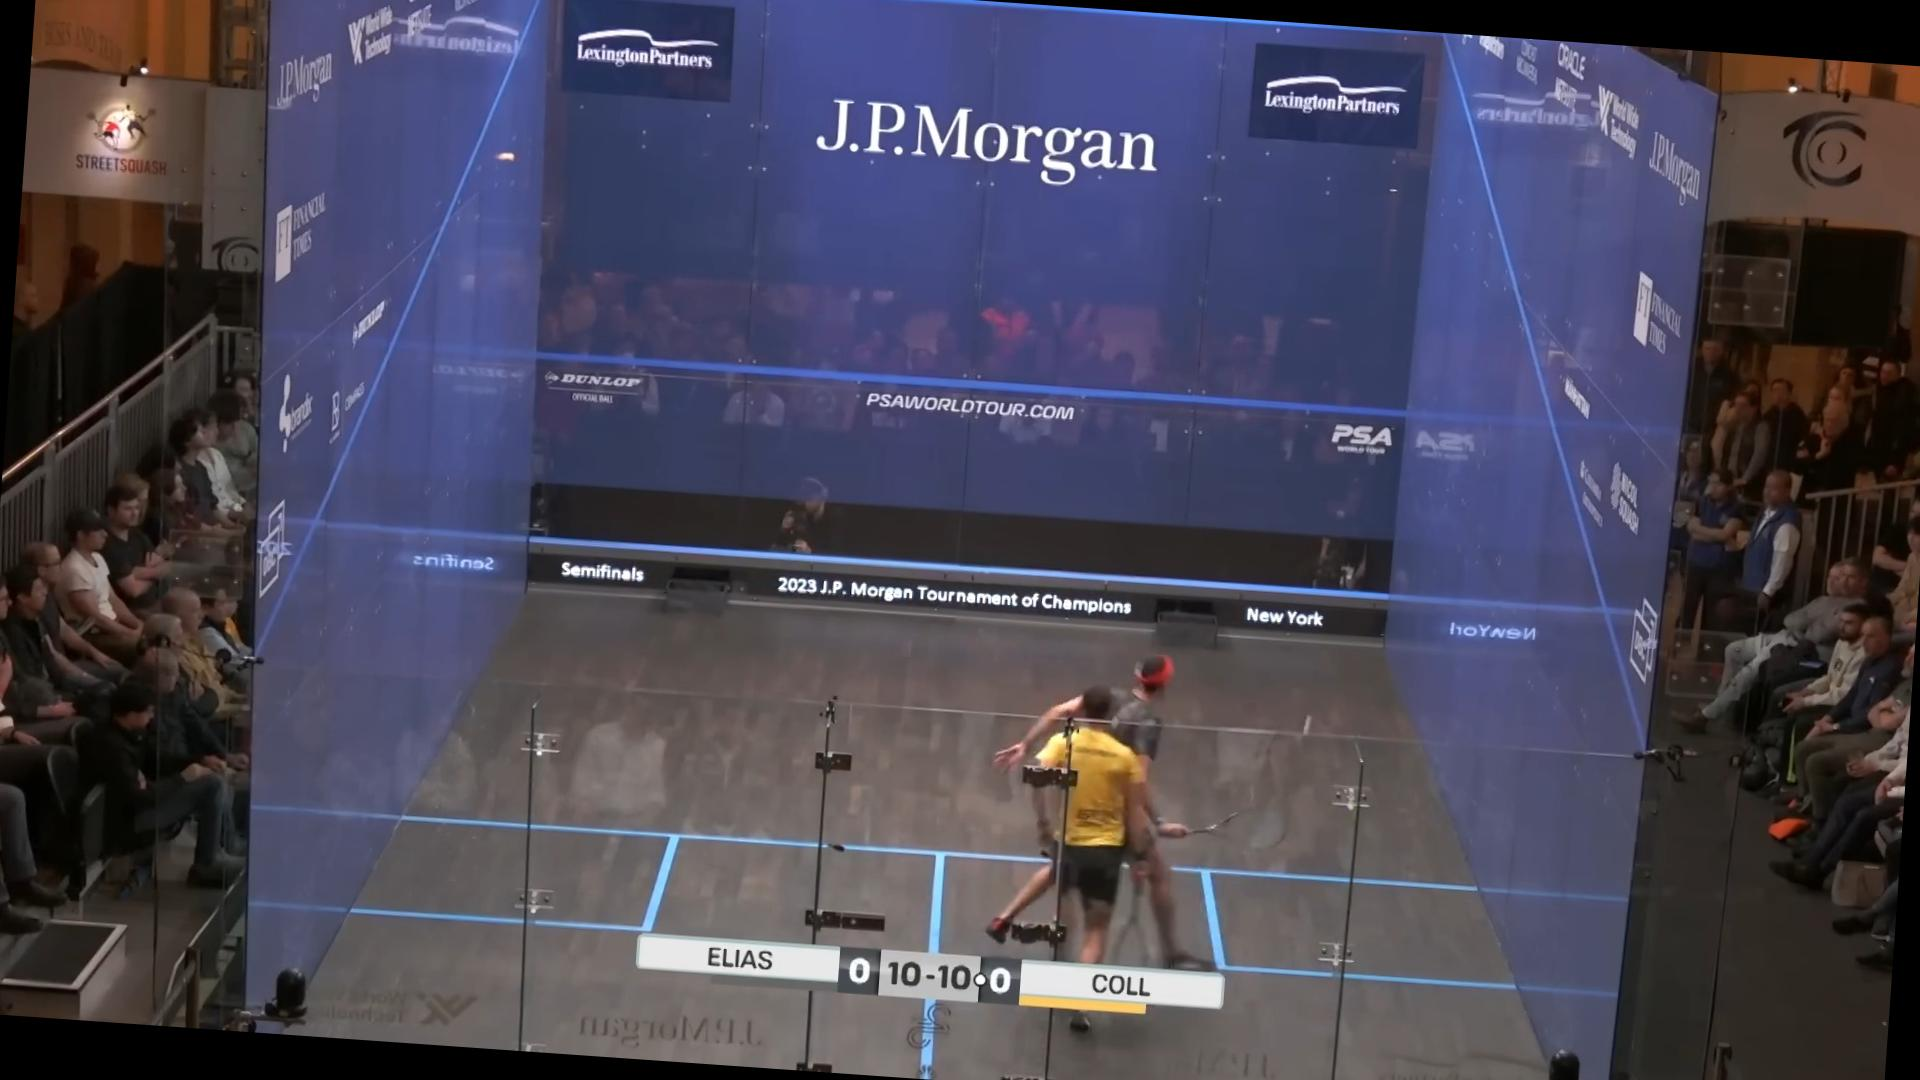Racket: (1178, 791, 1299, 857)
